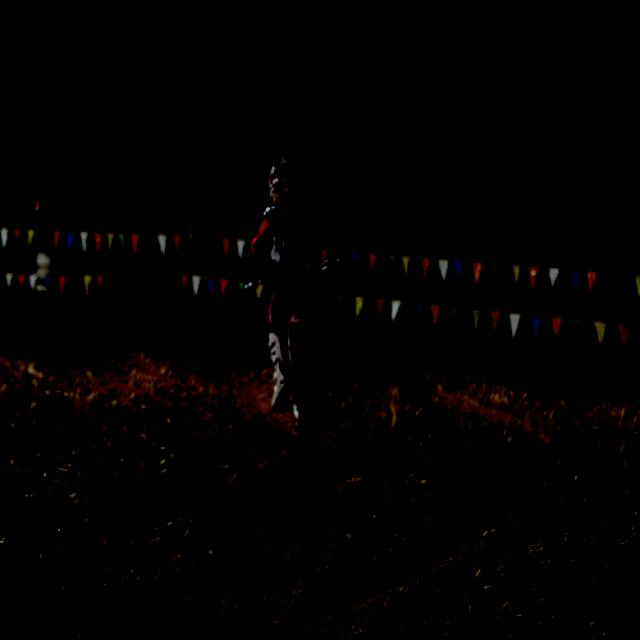Motorbike: (243, 158, 351, 487)
